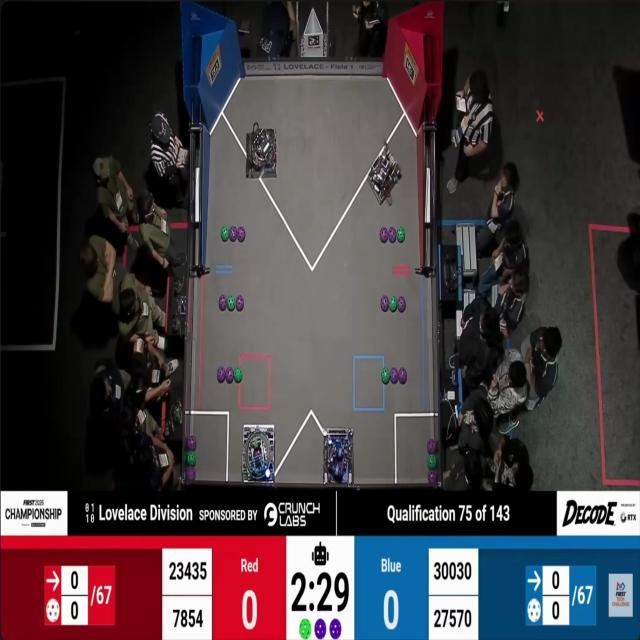artifact_green: (299, 619, 311, 640), (234, 367, 242, 383), (382, 368, 390, 384), (397, 227, 405, 243), (428, 455, 437, 469), (187, 452, 196, 466), (389, 296, 397, 311), (221, 226, 229, 241), (227, 296, 235, 311)
artifact_purple: (315, 619, 326, 639), (330, 619, 341, 639), (186, 467, 196, 482), (187, 435, 196, 451), (398, 368, 407, 384), (398, 296, 406, 313), (226, 367, 234, 383), (218, 367, 226, 383), (388, 227, 396, 243), (428, 470, 437, 484), (381, 296, 389, 311), (236, 296, 244, 311), (428, 439, 436, 454), (390, 368, 398, 383), (380, 228, 388, 243), (230, 226, 237, 242), (219, 295, 226, 310), (238, 227, 245, 242)
